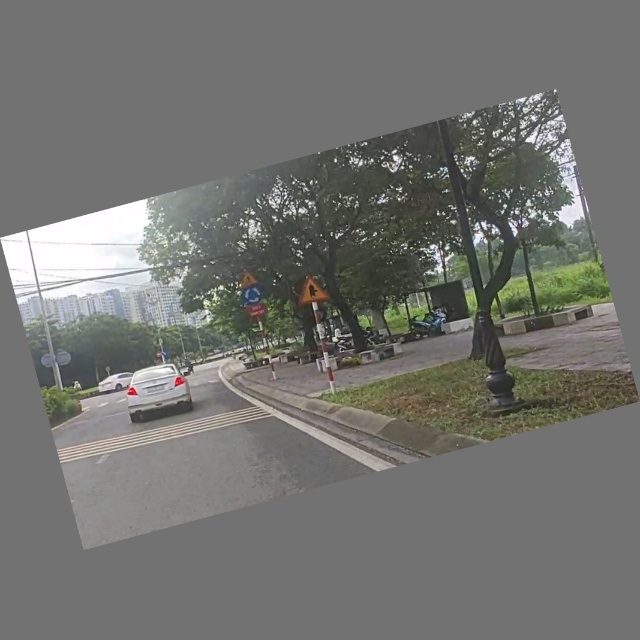P.102: (155, 351, 162, 359)
R.302a: (161, 350, 169, 358)
R.303: (242, 285, 265, 307)
W.207: (293, 272, 333, 309)
W.224: (237, 266, 260, 287)
